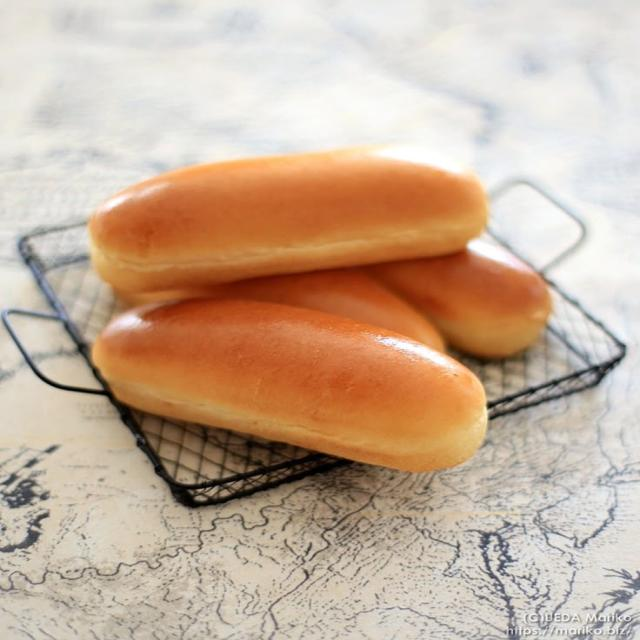bread: (93, 300, 486, 471), (89, 147, 487, 291), (117, 268, 445, 351), (369, 239, 552, 358)
